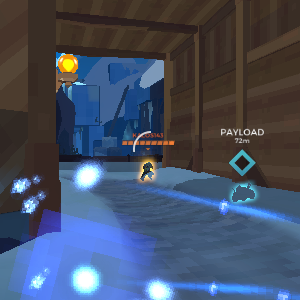model: (138, 158, 158, 185)
